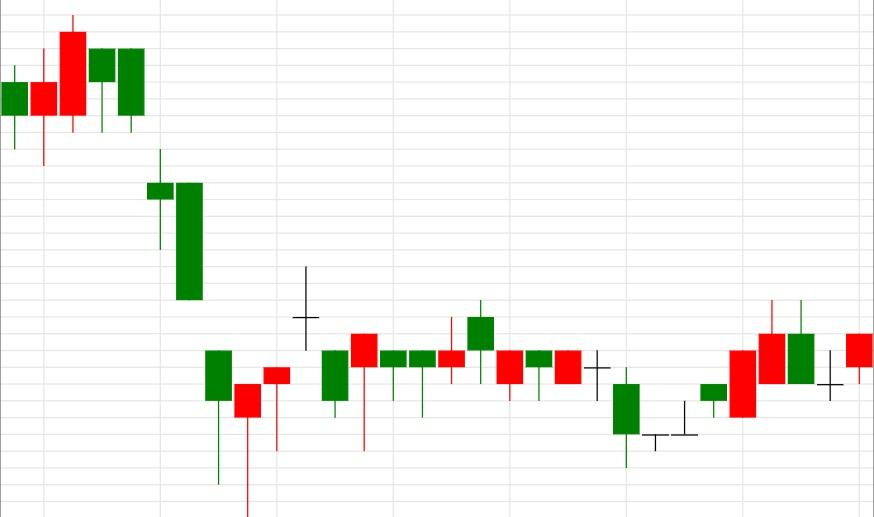hammer_rise: (59, 15, 262, 517)
